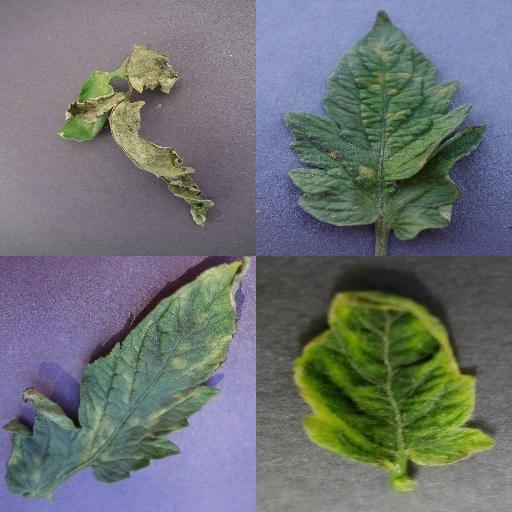Late Blight: (59, 45, 217, 225)
Leaf Mold: (4, 256, 250, 502), (284, 10, 488, 240)
Yellow Leaf Curl Virus: (290, 290, 498, 468)
